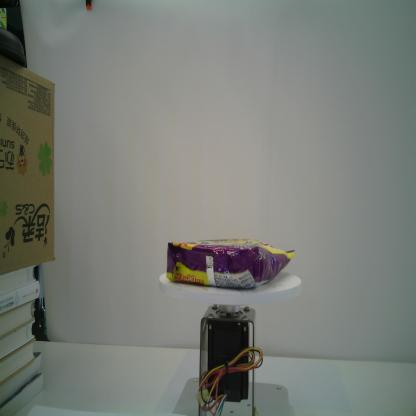Instant Noodles: (166, 237, 296, 289)
